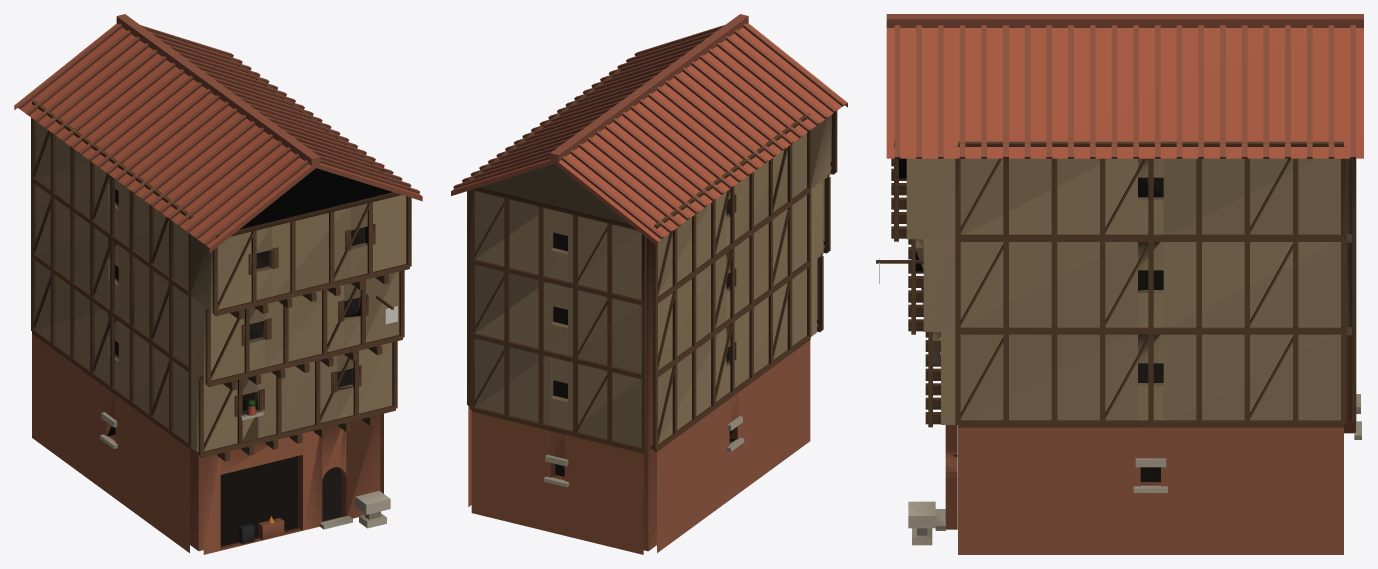
File: rome_insula_c.glb
3 views of the same model, side by side, from view 1: azimuth 30°, elevation 25°; view 2: azimuth 150°, elevation 25°; view 3: azimuth 270°, elevation 25° (orthographic). The views are drawn at different scales.
Parts seen in each view (by area): view 1: rome_insula_c; view 2: rome_insula_c; view 3: rome_insula_c.
Boxes of the visible parts, x1,y1,x2,y2 form: rome_insula_c: [14, 14, 422, 554]; rome_insula_c: [451, 14, 847, 554]; rome_insula_c: [876, 14, 1363, 554].
Size of the model in its own units: 8.88 by 15.53 by 14.29.
